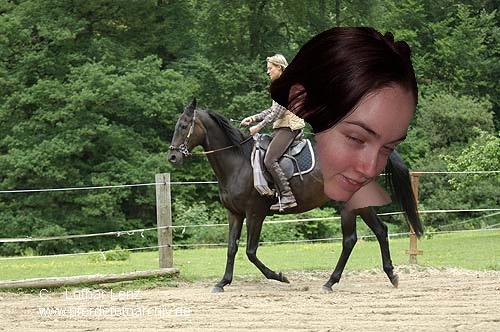tampered: (269, 28, 418, 212)
